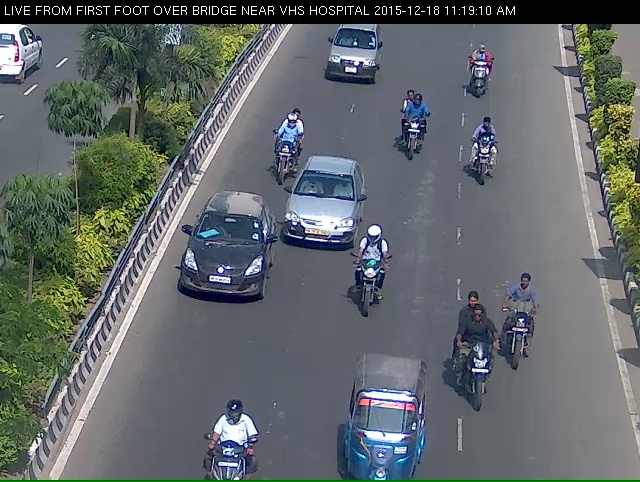Auto: (337, 376, 426, 479)
Car: (176, 204, 263, 328), (276, 162, 360, 264), (316, 25, 381, 92)
Person: (456, 329, 505, 458), (505, 295, 543, 394), (348, 240, 387, 332), (461, 123, 502, 200), (393, 100, 433, 173), (263, 117, 301, 189), (457, 50, 498, 105), (196, 437, 246, 477)
